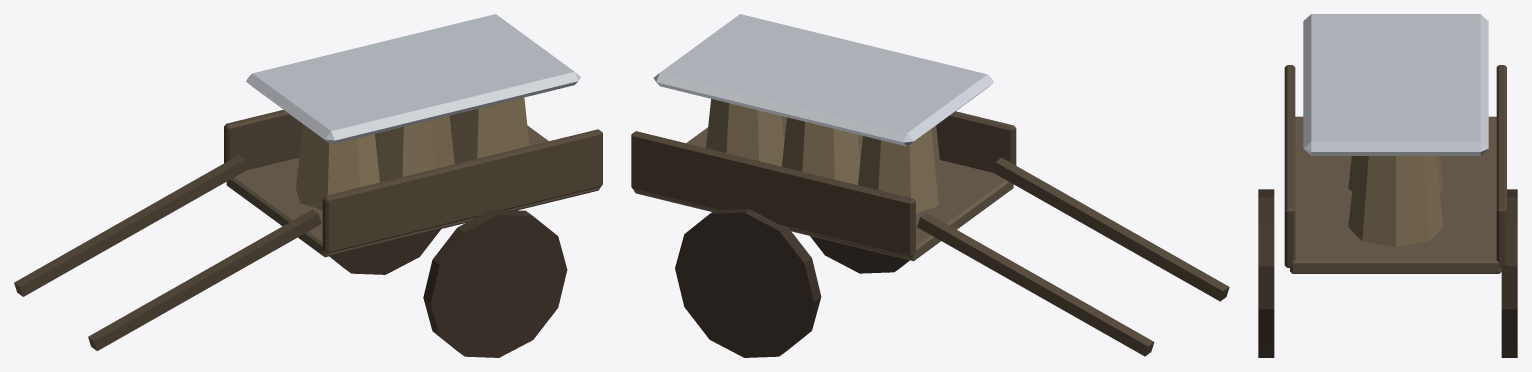
File: handcart.glb
3 views of the same model, side by side, from view 1: azimuth 30°, elevation 25°; view 2: azimuth 150°, elevation 25°; view 3: azimuth 270°, elevation 25° (orthographic). The views are drawn at different scales.
Visible parts, largest first — view 1: handcart; view 2: handcart; view 3: handcart.
Boxes of the visible parts, bbox=[...] form: handcart: bbox=[14, 14, 602, 357]; handcart: bbox=[631, 14, 1229, 357]; handcart: bbox=[1258, 14, 1517, 357].
Bounding box in the file's own units: 2.33 × 1.09 × 0.98.
